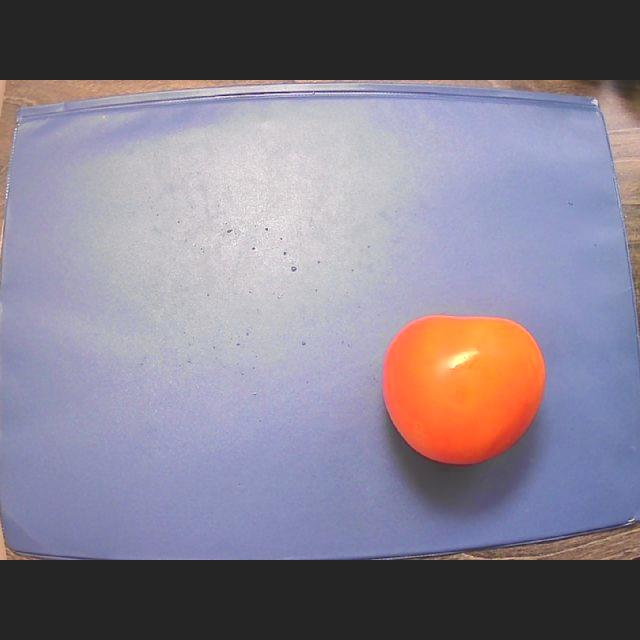tomate: (383, 315, 545, 464)
